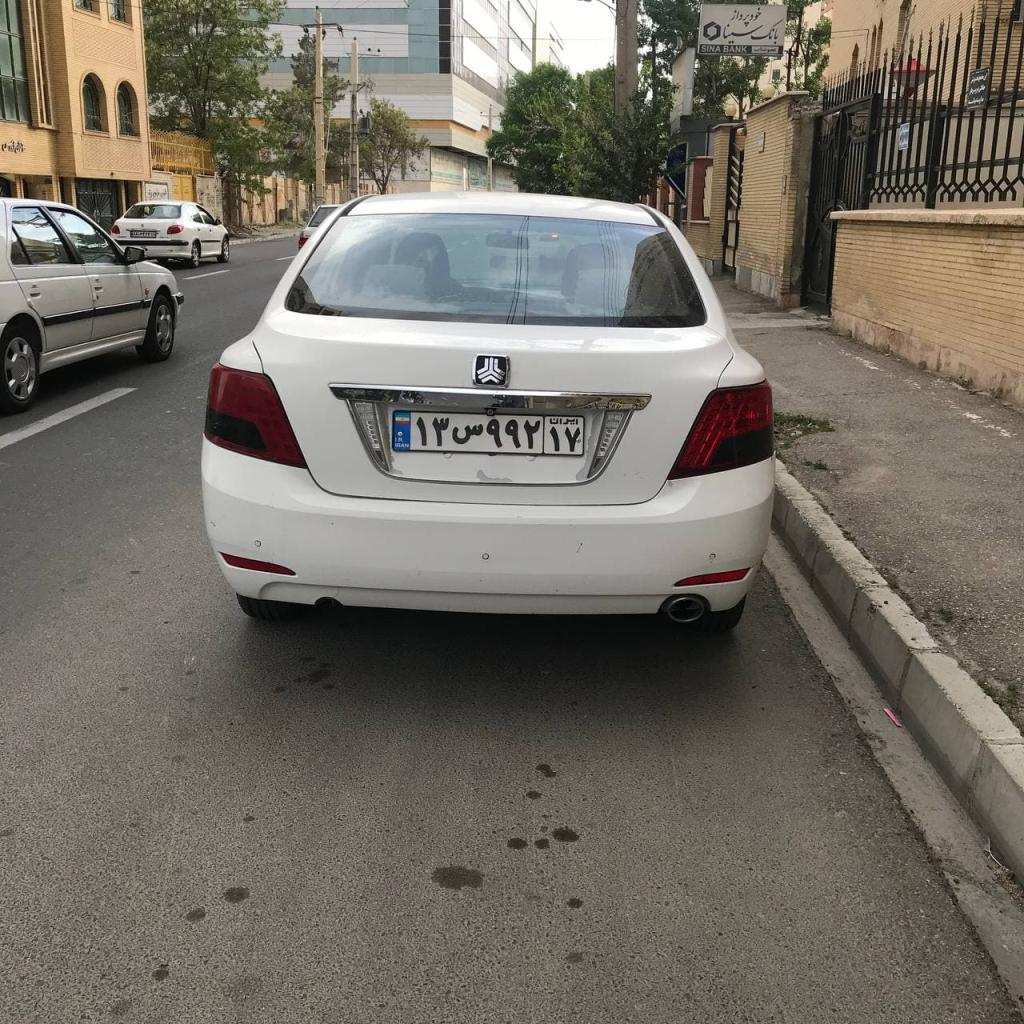Plates: (393, 410, 584, 455)
